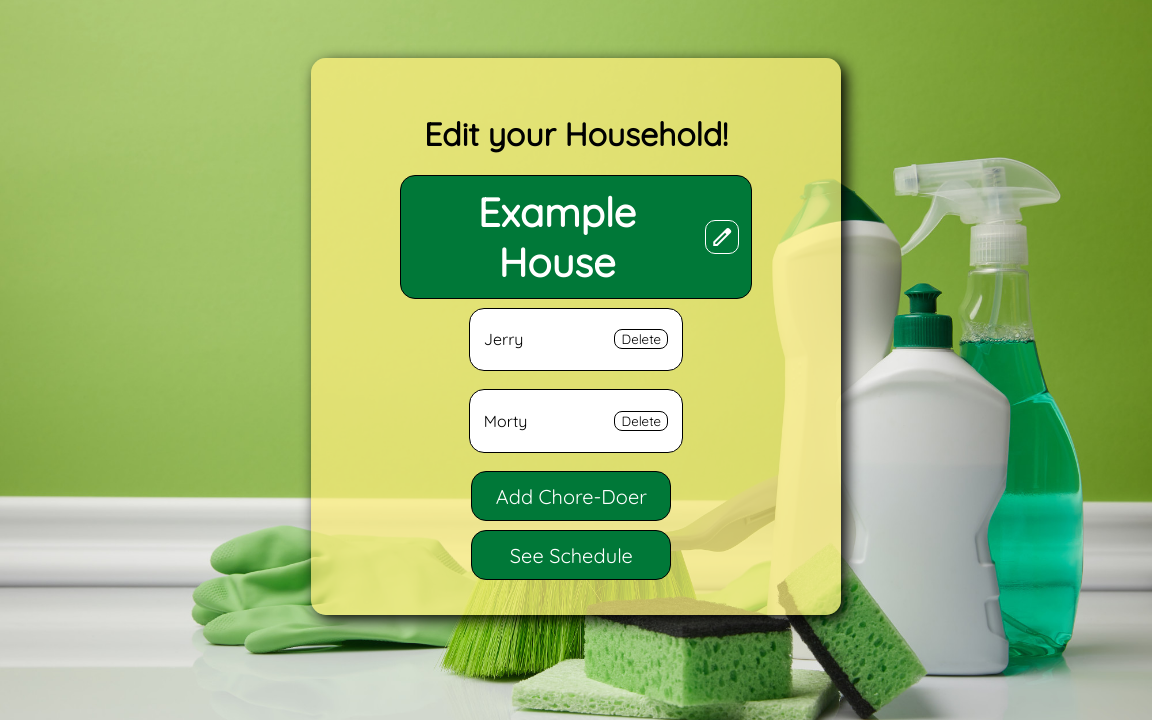
Test: House Form › should allow a user to re-name their household
expect the heading "Example House" is shown: met, box [478,187,636,287]
Click the text with class "material-symbols-outlined": (722, 237) [705,220,739,254]
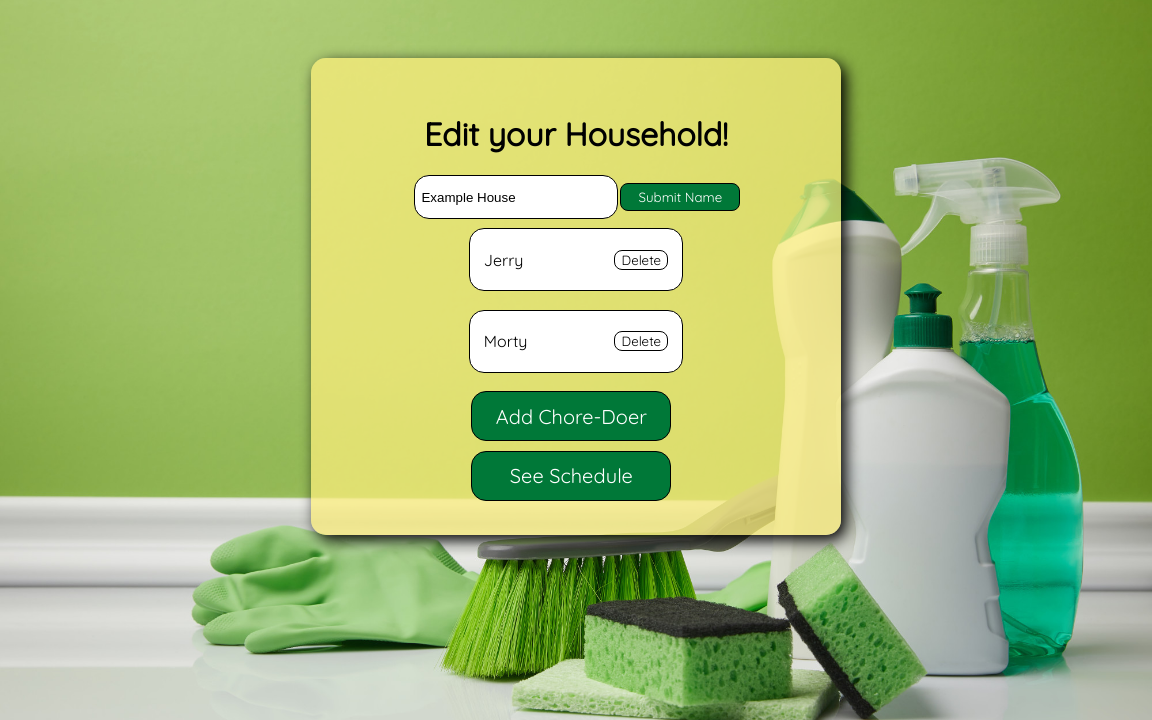
Replace the text in the field with id "householdName" with "Cypress Family": (516, 197) [414,175,618,219]
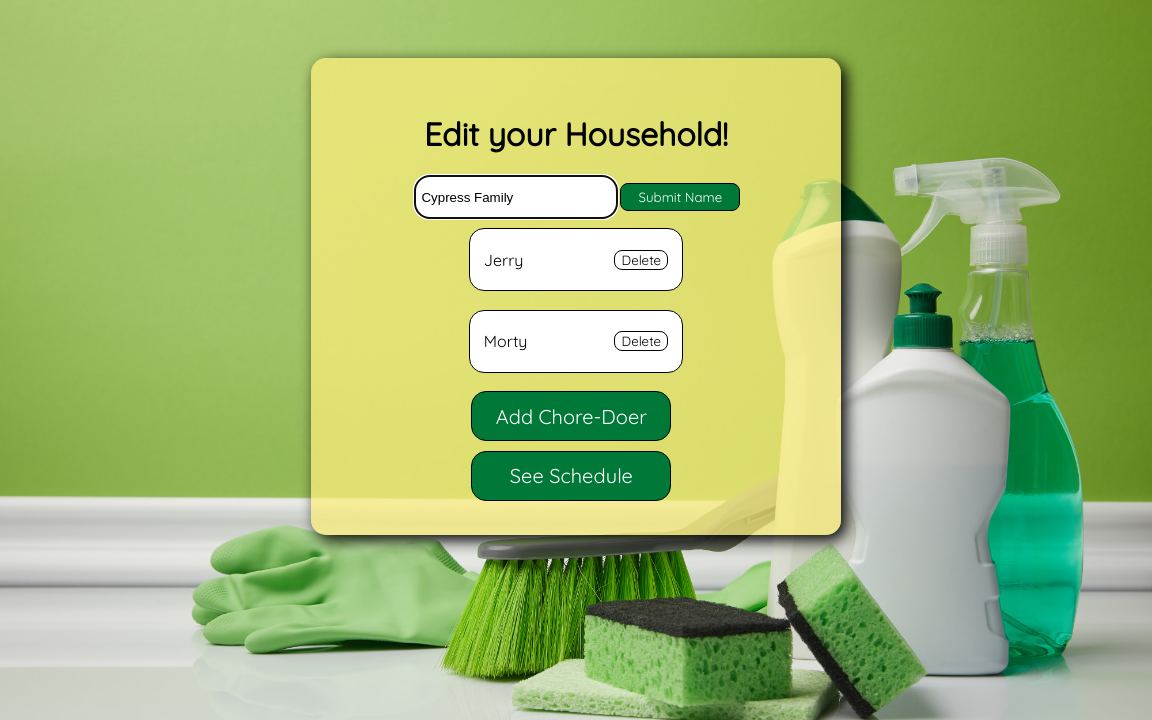
Click the button with class "submit-name": (680, 197) [620,183,740,211]
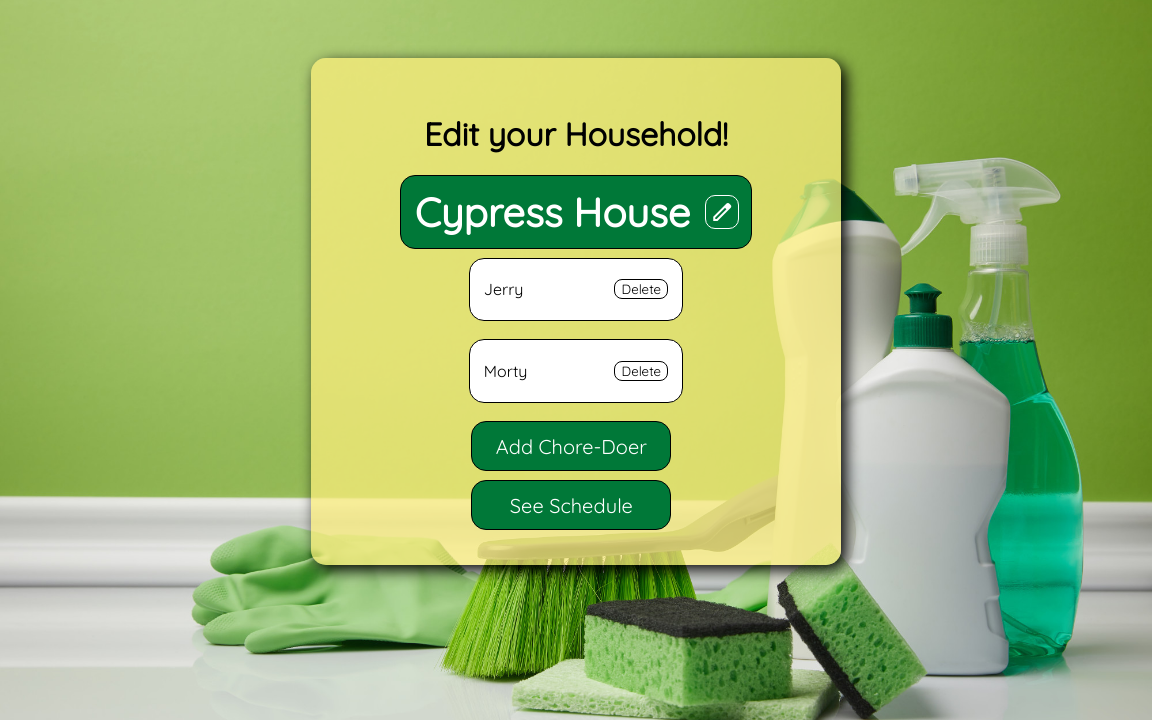
expect the heading "Cypress House" is shown: met, box [415,187,690,237]
